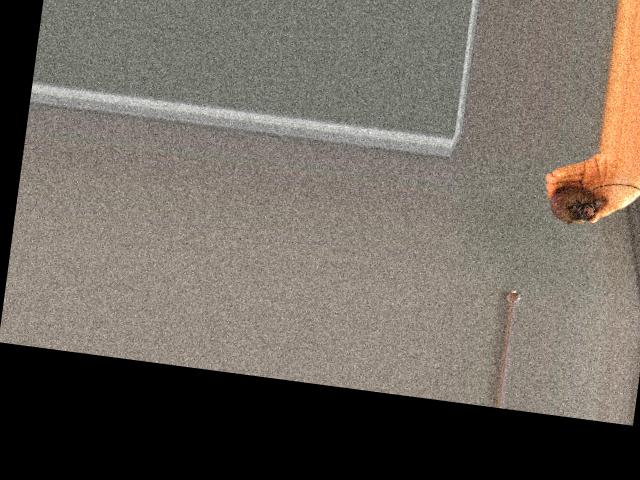beet: (536, 172, 640, 232)
